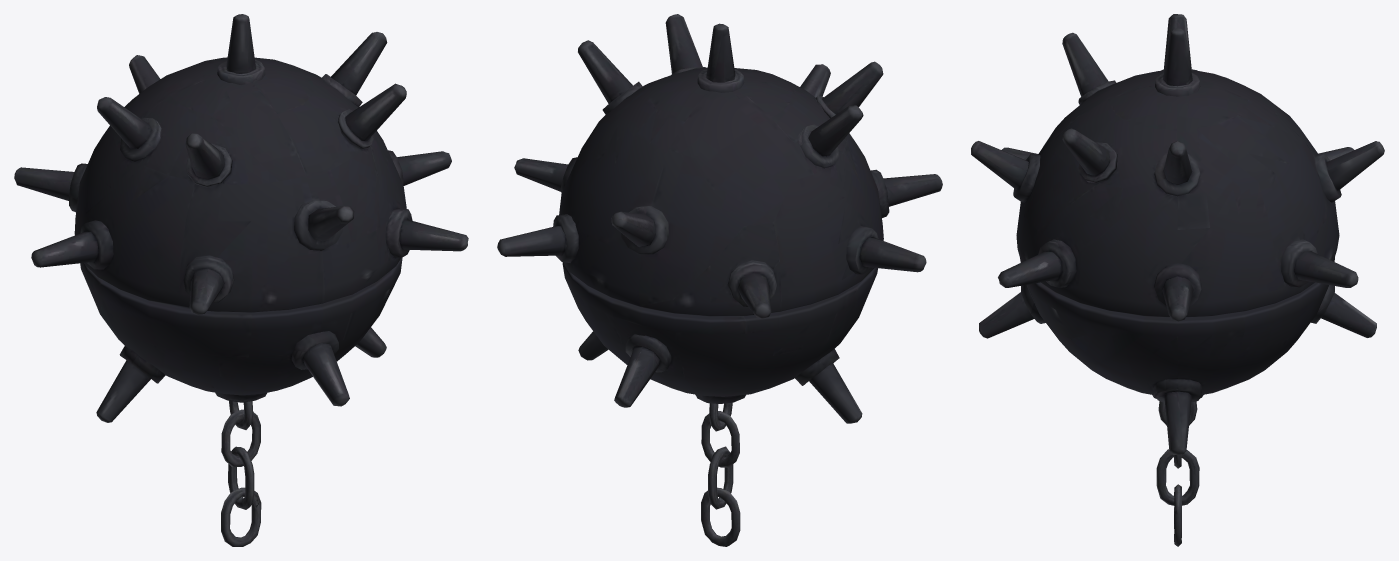
Rendered from mine.glb.
3 renders of one model, left to right at view 1: azimuth 30°, elevation 25°; view 2: azimuth 150°, elevation 25°; view 3: azimuth 270°, elevation 25°, orthographic. The views are drawn at different scales.
Size of the model in its own units: 1.31 by 1.6 by 1.17.
Materials: 1 (1 with a texture image).
